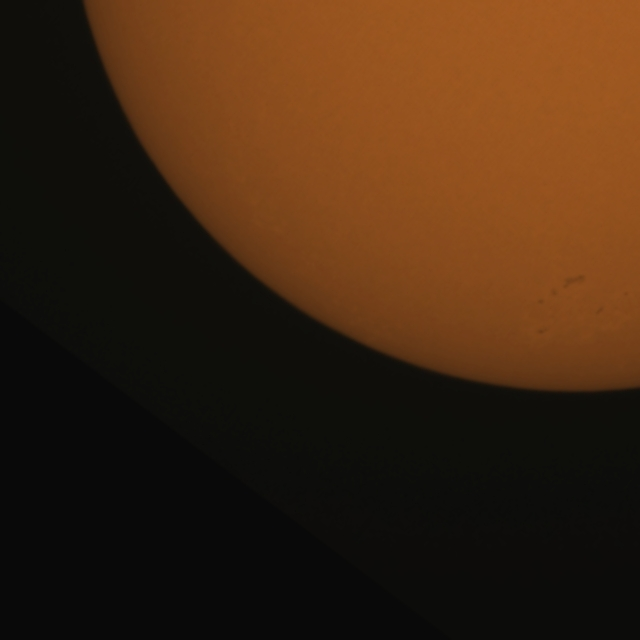sunspot: (548, 274, 586, 299), (536, 325, 550, 336), (594, 305, 605, 317)
